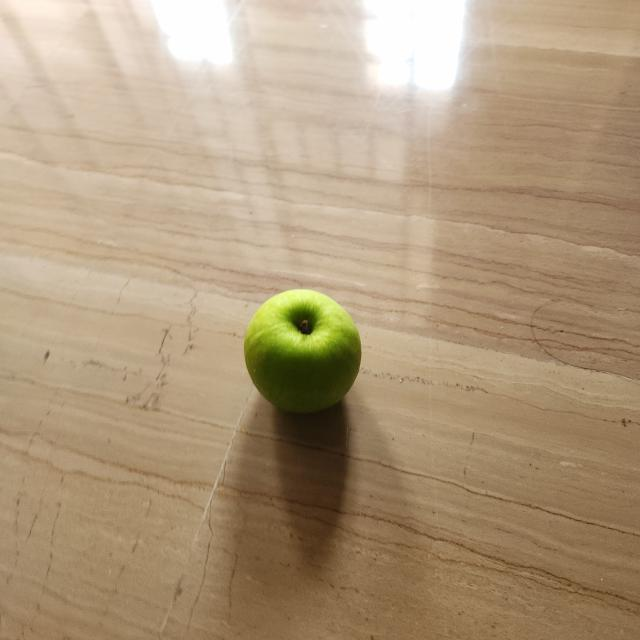apple: (240, 278, 370, 426)
